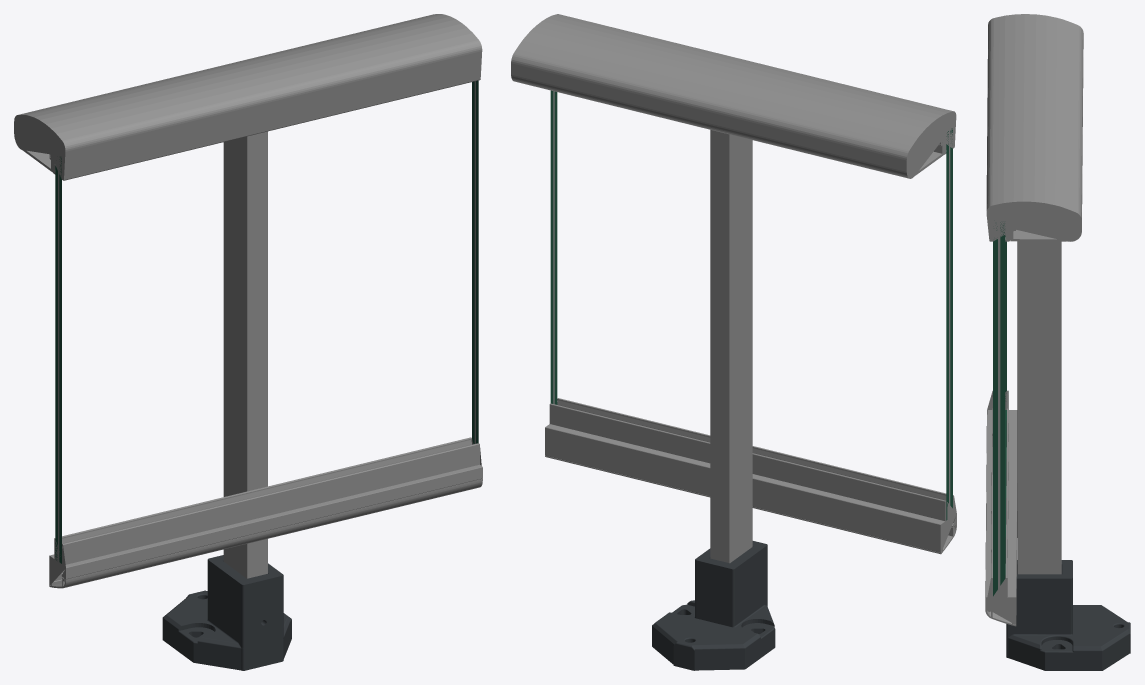
3 renders of one model, left to right at view 1: azimuth 30°, elevation 25°; view 2: azimuth 150°, elevation 25°; view 3: azimuth 270°, elevation 25°, orthographic. The views are drawn at different scales.
Parts seen in each view (by area): view 1: Extrude_1, Extrude_3, montante_3_2, SAPATA_DE_GRADE_3, Extrude_2, Extrude_4, Extrude_6_3, Extrude_5; view 2: Extrude_1, Extrude_3, montante_3_2, SAPATA_DE_GRADE_3, Extrude_6_3, Extrude_4, Extrude_5, Extrude_2; view 3: Extrude_1, montante_3_2, SAPATA_DE_GRADE_3, Extrude_3, Extrude_6_3, Extrude_4, Extrude_5, Extrude.
Boxes of the visible parts, bbox=[...] form: Extrude_1: bbox=[14, 14, 482, 180]; Extrude_3: bbox=[49, 437, 482, 585]; montante_3_2: bbox=[223, 131, 267, 578]; SAPATA_DE_GRADE_3: bbox=[162, 555, 291, 670]; Extrude_2: bbox=[49, 478, 482, 588]; Extrude_4: bbox=[59, 80, 478, 563]; Extrude_6_3: bbox=[55, 81, 474, 560]; Extrude_5: bbox=[58, 81, 475, 562]; Extrude_1: bbox=[511, 14, 956, 178]; Extrude_3: bbox=[545, 398, 956, 552]; montante_3_2: bbox=[710, 130, 752, 563]; SAPATA_DE_GRADE_3: bbox=[652, 541, 775, 670]; Extrude_6_3: bbox=[550, 90, 948, 520]; Extrude_4: bbox=[554, 91, 952, 508]; Extrude_5: bbox=[553, 91, 950, 507]; Extrude_2: bbox=[545, 456, 956, 554]; Extrude_1: bbox=[986, 14, 1083, 241]; montante_3_2: bbox=[1017, 241, 1061, 574]; SAPATA_DE_GRADE_3: bbox=[1006, 560, 1130, 670]; Extrude_3: bbox=[985, 390, 1017, 624]; Extrude_6_3: bbox=[1000, 222, 1006, 585]; Extrude_4: bbox=[993, 226, 997, 596]; Extrude_5: bbox=[998, 222, 1000, 596]; Extrude: bbox=[1010, 221, 1066, 241].
Size of the model in its own units: 400 by 538 by 131.
Materials: 4 (2 with a texture image).
